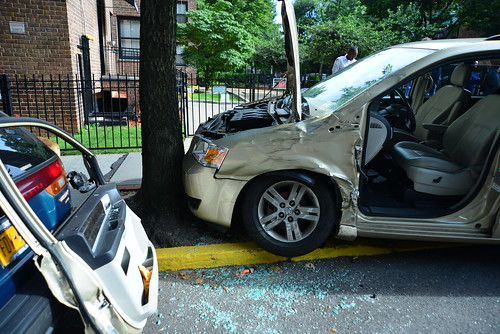building: (1, 1, 175, 133)
car: (194, 37, 500, 244)
vegetation: (192, 1, 500, 73)
